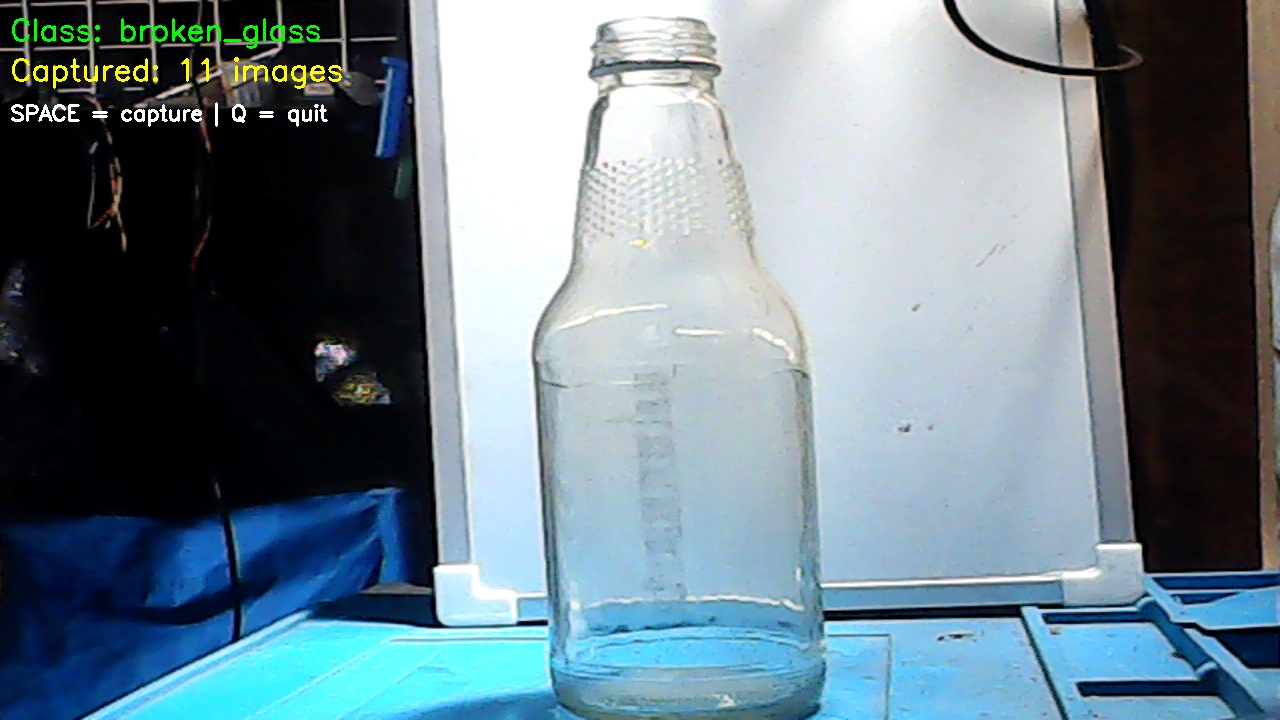broken_glass: (493, 7, 864, 713)
